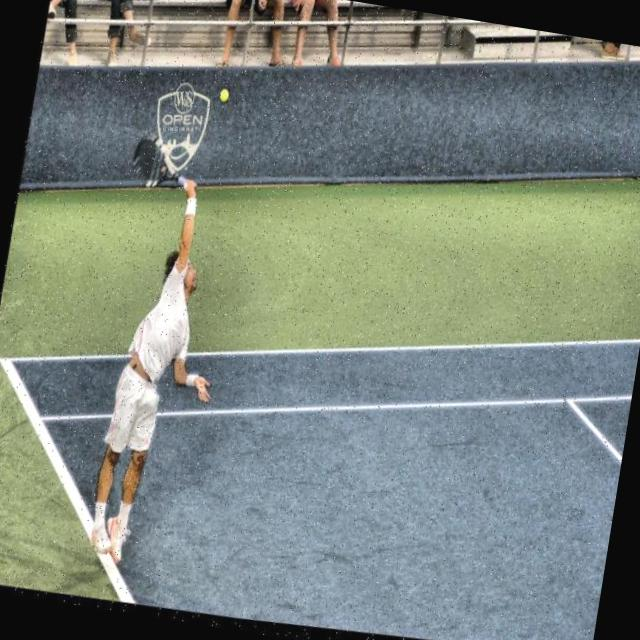Tennis Ball: (216, 84, 233, 109)
